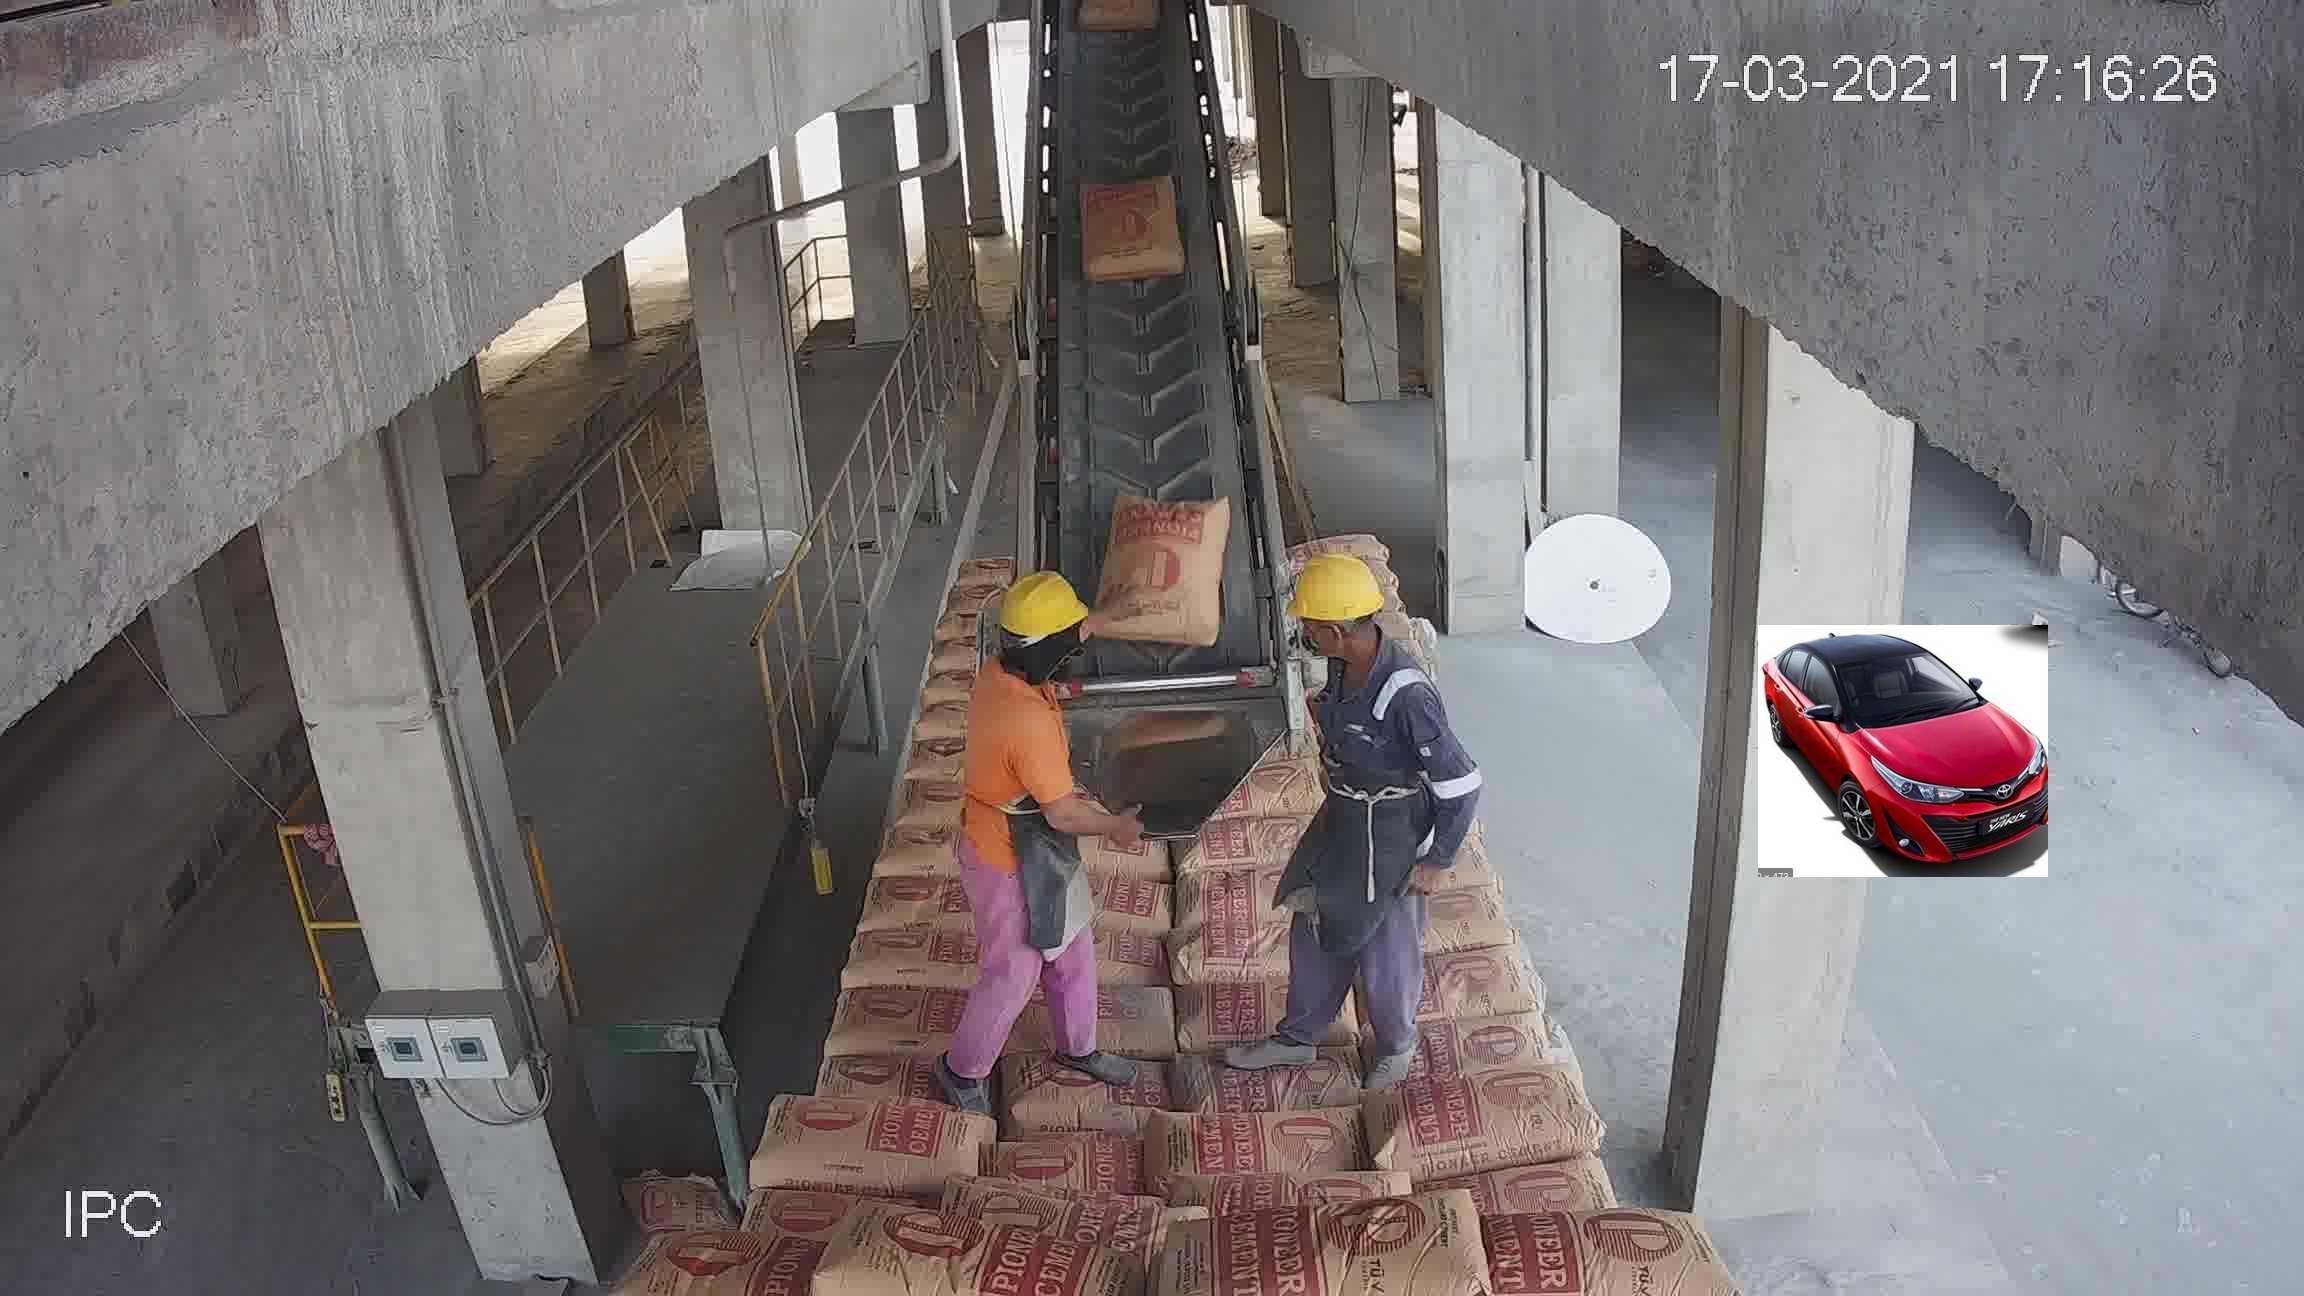bag: (1093, 487, 1231, 647), (1079, 168, 1180, 274)
bag_h: (1198, 1182, 1522, 1294), (1348, 1060, 1605, 1187), (1424, 1196, 1704, 1294), (793, 1215, 1133, 1296), (756, 1098, 991, 1190), (1152, 1106, 1378, 1201), (1174, 1032, 1367, 1117), (635, 1225, 855, 1294), (799, 1038, 975, 1108), (1044, 1051, 1211, 1124), (992, 1141, 1165, 1209), (1416, 946, 1540, 1036), (1418, 1003, 1571, 1074), (836, 923, 991, 991), (1082, 983, 1211, 1063), (829, 983, 957, 1062), (1177, 862, 1291, 948), (1169, 927, 1302, 991), (1188, 812, 1302, 878), (1078, 926, 1192, 989), (1184, 980, 1291, 1041), (864, 866, 975, 919)
belt: (1024, 14, 1296, 788)
